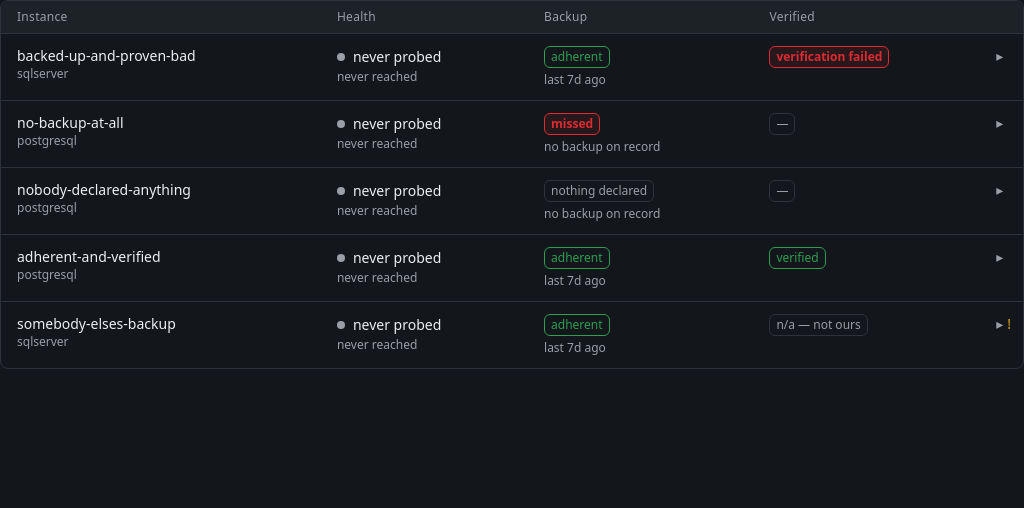
Scenario: EstateTable › keeps a caveat behind the row, and reachable
Click the button named "Details for somebody-elses-backup" at (1004, 324), box x1=992 y1=314 x2=1015 y2=334
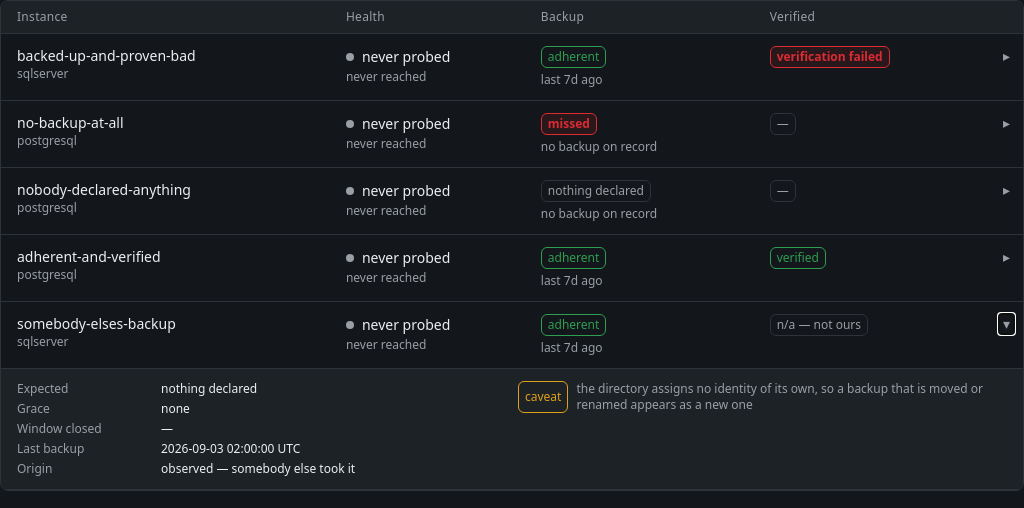
Check: the text "the directory assigns no identity of its own, so a backup that is moved or renamed appears as a new one" is shown, box x1=576 y1=380 x2=983 y2=413
